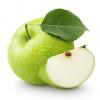Apple leaf: (37, 9, 92, 42)
